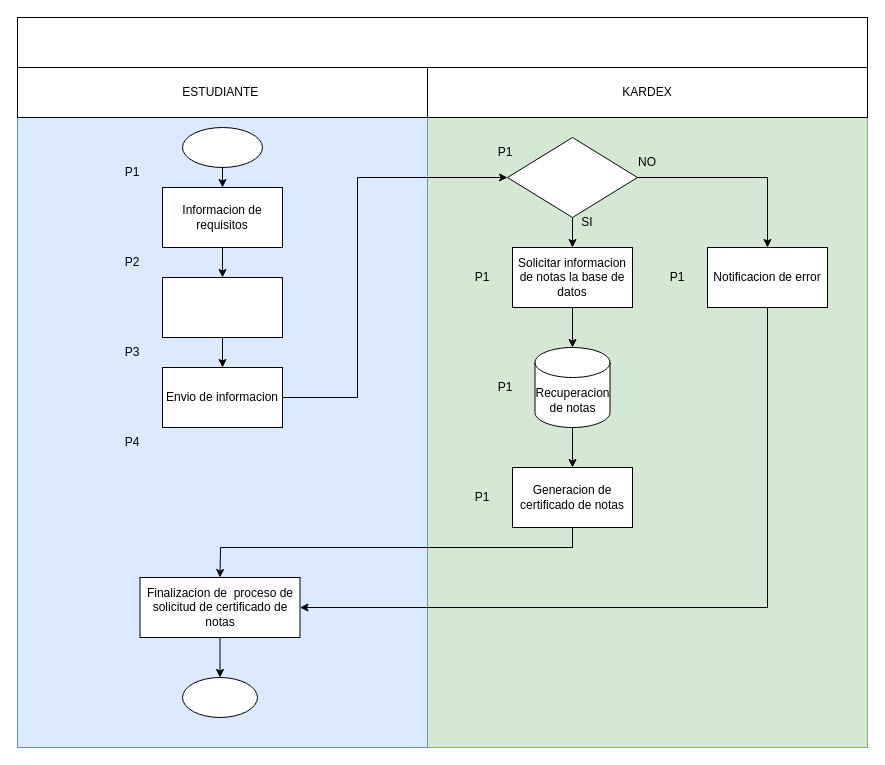
This 885x765 diagram has some shape labels left out. Each missing label, with the centre of its shape:
"Es estudiante regular?" belongs at pixel 572 177.
"FIN" belongs at pixel 220 697.
"INICIO" belongs at pixel 222 147.
"Llenado de formulario de datos personales" belongs at pixel 222 307.
"PROCESO DE SOLICITUD DE CERTIFICADO DE NOTAS" belongs at pixel 442 42.
